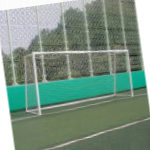goals: (21, 48, 137, 117)
